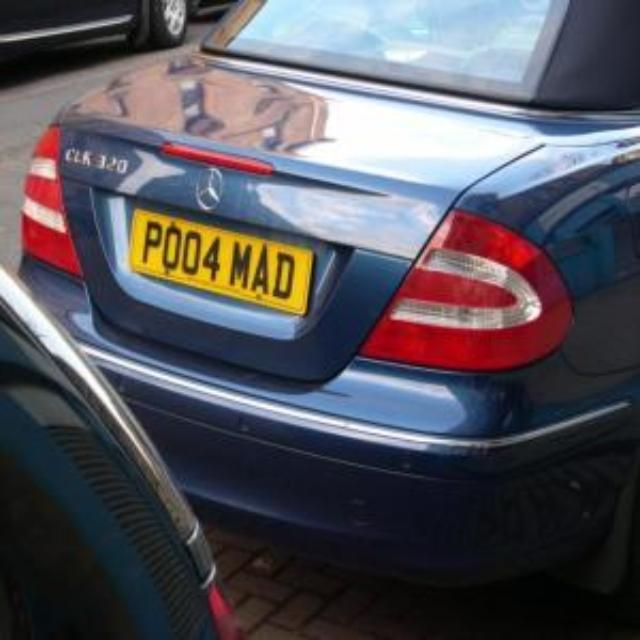License Plate: (127, 209, 313, 315)
